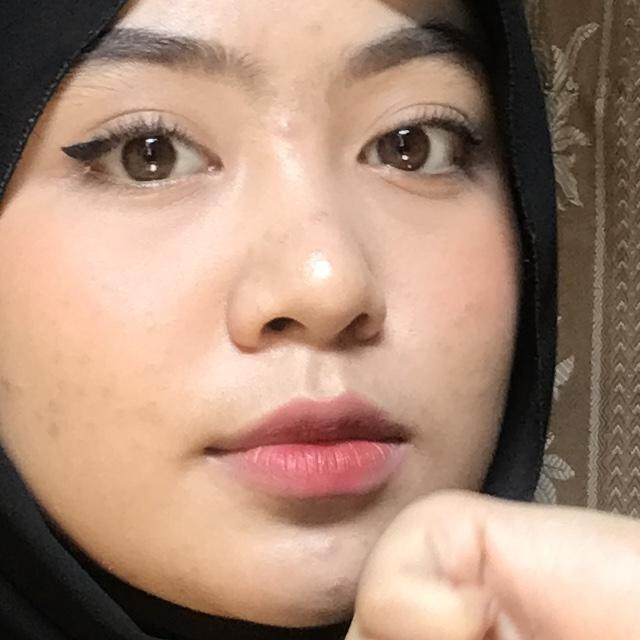sedih: (200, 336, 640, 640)
